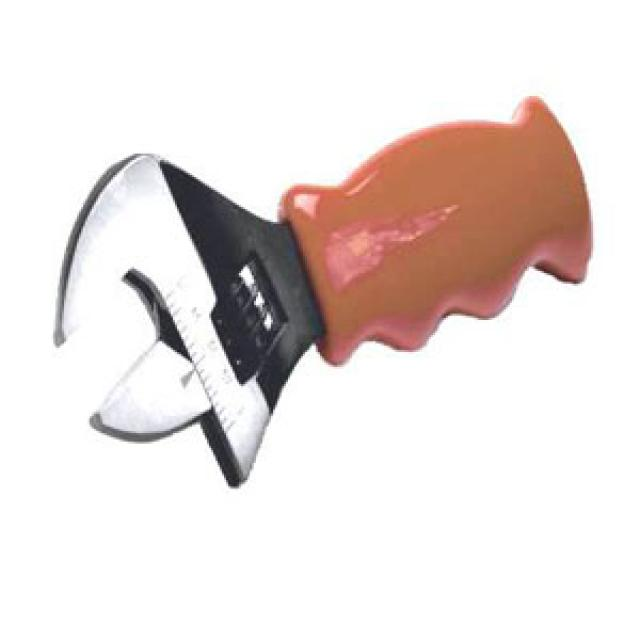wrench: (36, 130, 362, 492)
